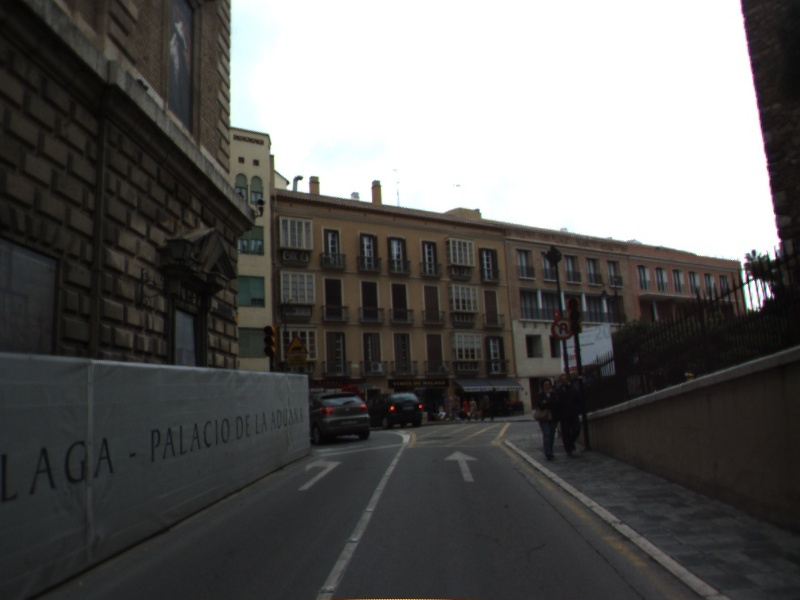LEFT: (295, 455, 344, 493)
STRAIGHT: (442, 449, 482, 484)
